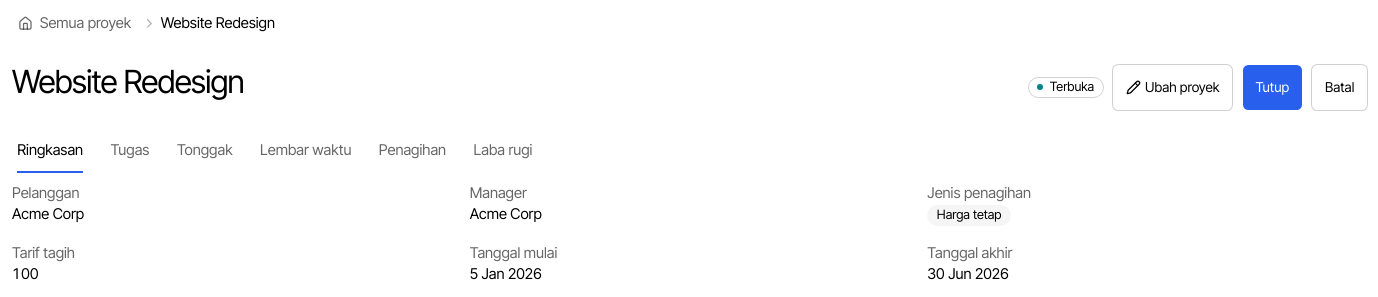
Test case: ProjectDetail remainder › shows pnl cards on the pnl tab and no-data without a summary
Check: the heading "Website Redesign" is shown, box [12, 64, 244, 100]
What coordinates should you click on to do the following:
click the tab "Laba rugi"
I would click on:
 (503, 151)
Its box is [473, 128, 533, 174].
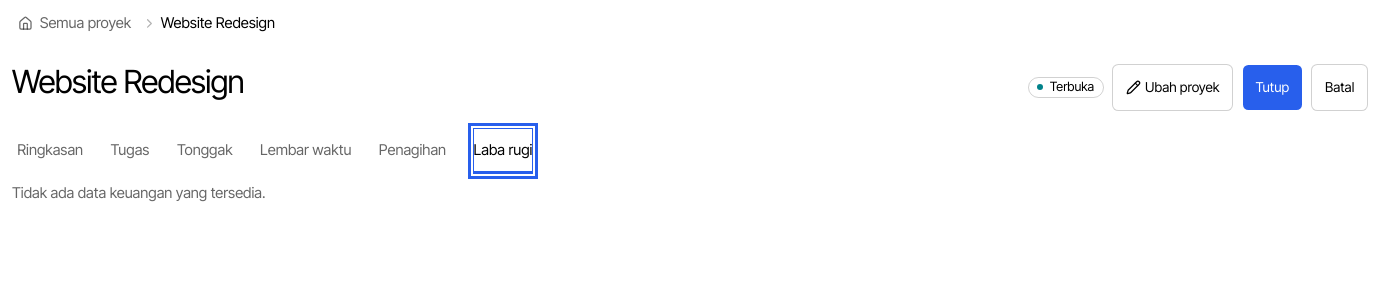
Check: the text "Tidak ada data keuangan yang tersedia." is shown, box [12, 184, 266, 202]
